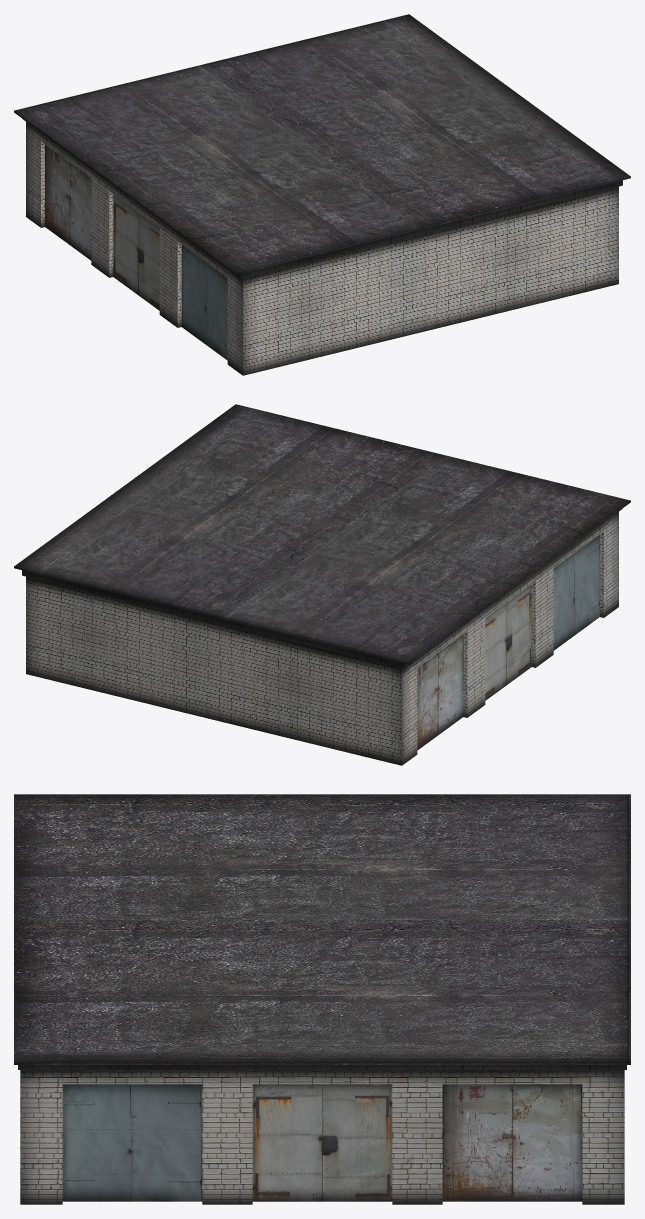
Rendered from d_garage_6.FBX.
3 views of the same model, one above another, from view 1: azimuth 30°, elevation 25°; view 2: azimuth 150°, elevation 25°; view 3: azimuth 270°, elevation 25° (orthographic). The views are drawn at different scales.
Parts seen in each view (by area): view 1: d_garage_6; view 2: d_garage_6; view 3: d_garage_6.
Boxes of the visible parts, x1=… form: d_garage_6: x1=14, y1=14, x2=630, y2=375; d_garage_6: x1=14, y1=404, x2=630, y2=765; d_garage_6: x1=14, y1=794, x2=630, y2=1204.
Size of the model in its own units: 10.02 by 9.74 by 2.59.
